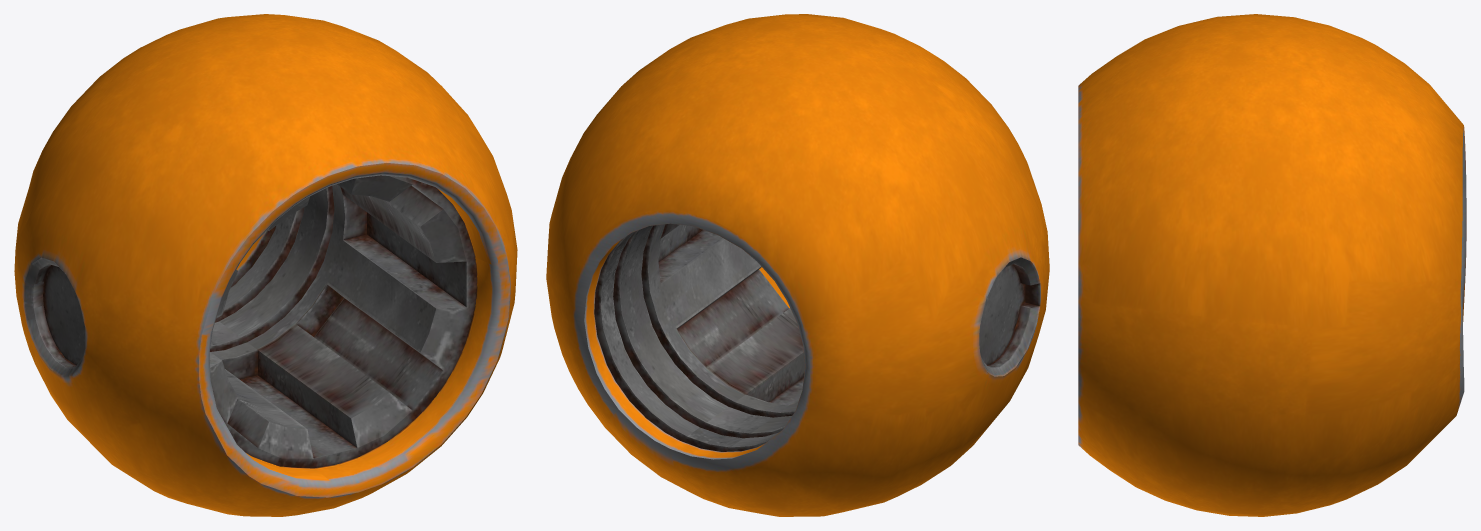
3 renders of one model, left to right at view 1: azimuth 30°, elevation 25°; view 2: azimuth 150°, elevation 25°; view 3: azimuth 270°, elevation 25°, orthographic.
Visible parts, largest first — view 1: Sphere_low; view 2: Sphere_low; view 3: Sphere_low.
Part boxes in pixels (bbox=[...]): Sphere_low: bbox=[14, 14, 517, 516]; Sphere_low: bbox=[546, 14, 1049, 516]; Sphere_low: bbox=[1078, 14, 1466, 516].
Size of the model in its own units: 1.97 by 2 by 1.54.
Materials: 1 (1 with a texture image).
